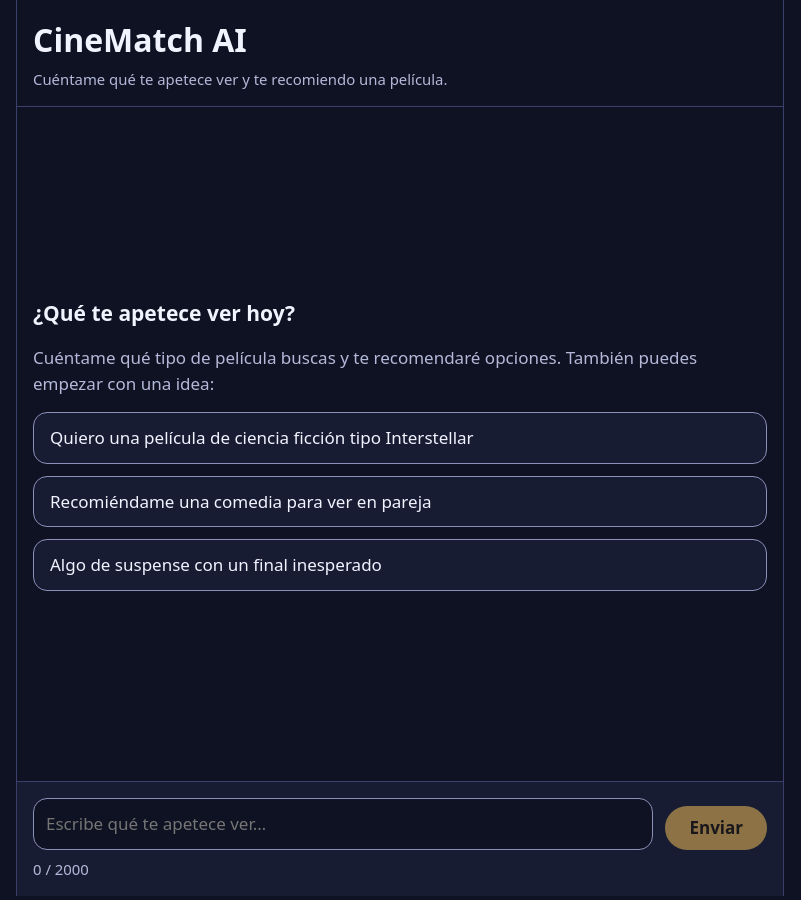
Test case: ChatWindow › un prompt sugerido envía el mensaje y muestra la respuesta formateada
What coordinates should you click on to do the following:
click the button "Quiero una película de ciencia ficción tipo Interstellar"
I would click on:
 (400, 438)
Its box is top-left (33, 412), bottom-right (767, 464).
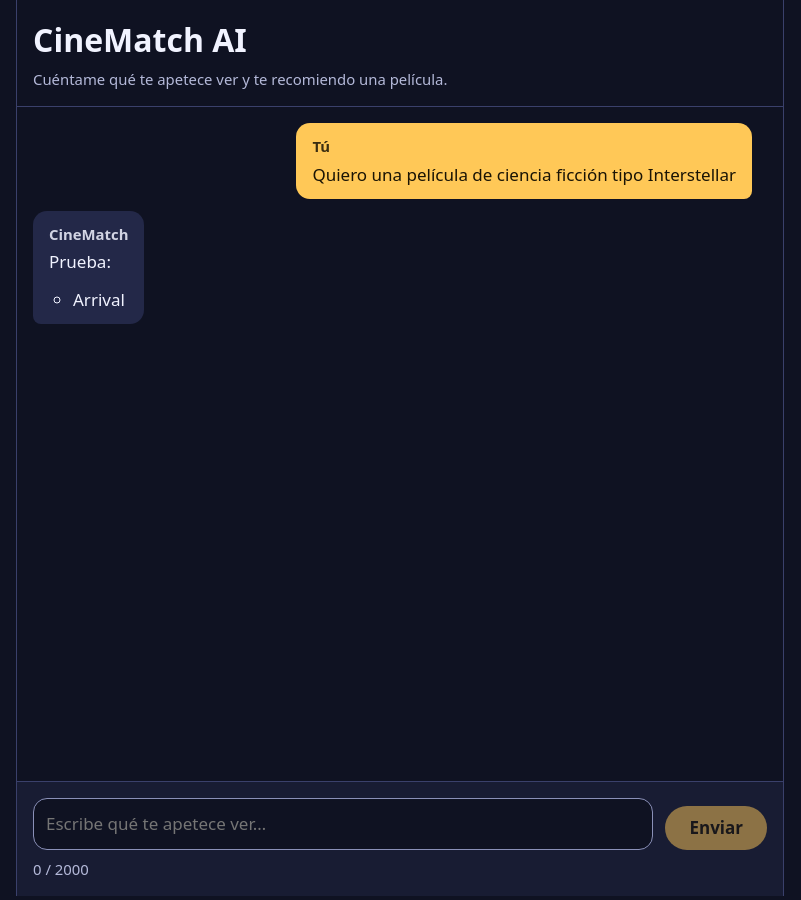
Check: the list item "Arrival" is shown, box top-left (73, 287), bottom-right (128, 312)
Check: the element named "Conversación" is shown, box top-left (33, 123), bottom-right (752, 324)
